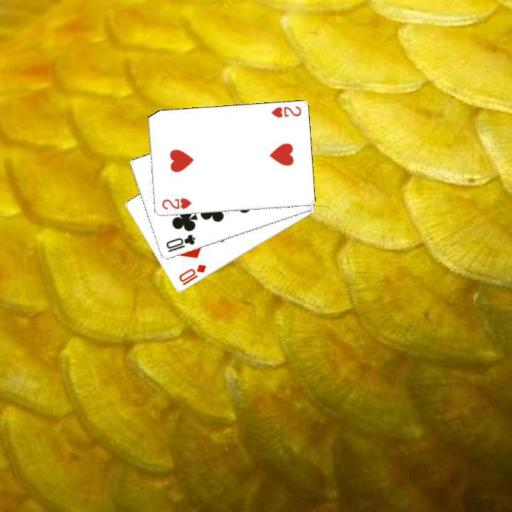10C: (163, 232, 197, 254)
10D: (176, 262, 208, 287)
2H: (268, 103, 302, 120), (159, 195, 193, 211)
